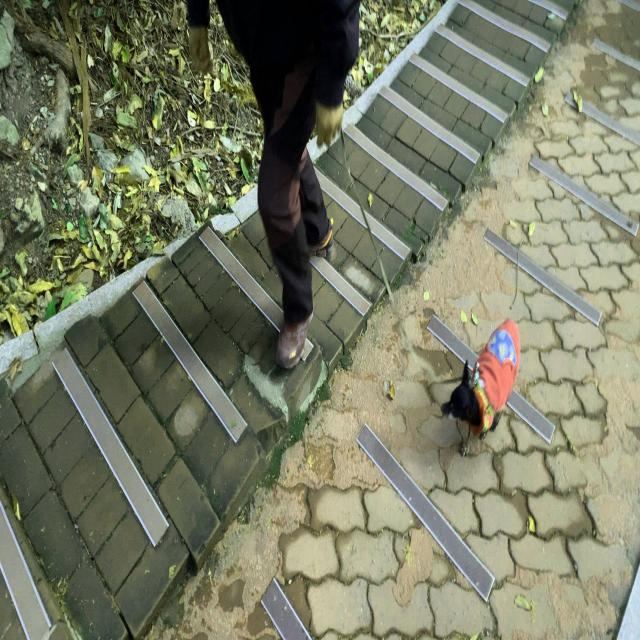Leashed_Dog: (285, 0, 520, 459)
